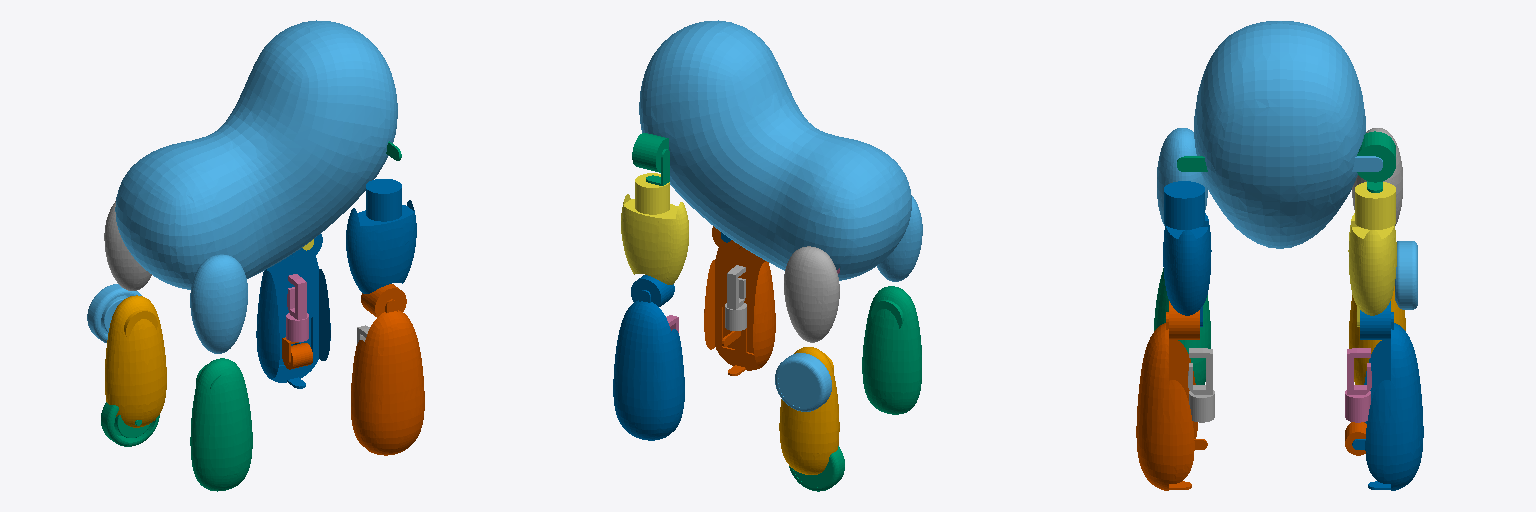
URDF robot description (px3):
<?xml version="1.0" ?>
<!-- =================================================================================== -->
<!-- |    This document was autogenerated by xacro from robot.xacro                    | -->
<!-- |    EDITING THIS FILE BY HAND IS NOT RECOMMENDED                                 | -->
<!-- =================================================================================== -->
<robot name="px3">
  <!-- dynamics inertial value -->
  <!-- arm -->
  <!-- <xacro:property name="J1" value="0.5"/>
    <xacro:property name="L1" value="0.2"/>
    <xacro:property name="J2" value="0.55"/>
    <xacro:property name="L2" value="0.35"/>
    <xacro:property name="J3" value="0.5"/>
    <xacro:property name="L3" value="0.2"/>
    <xacro:property name="J4" value="0.55"/>
    <xacro:property name="L4" value="0.35"/>
    <xacro:property name="J5" value="0.35"/>
    <xacro:property name="L5" value="0.15"/>
    <xacro:property name="J6" value="0.35"/>
    <xacro:property name="hand" value="0.5"/> -->
  <!--    <xacro:property name="J1" value="0.5"/>-->
  <!--    <xacro:property name="L1" value="0.2"/>-->
  <!--    <xacro:property name="J2" value="${hip_mass}"/>-->
  <!--    <xacro:property name="L2" value="${thigh_mass}"/>-->
  <!--    <xacro:property name="J3" value="0.0"/>-->
  <!--    <xacro:property name="L3" value="0.0"/>-->
  <!--    <xacro:property name="J4" value="0.0"/>-->
  <!--    <xacro:property name="L4" value="${calf_mass * 1}"/>-->
  <!--    <xacro:property name="J5" value="0.0"/>-->
  <!--    <xacro:property name="L5" value="0.0"/>-->
  <!--    <xacro:property name="J6" value="0.0"/>-->
  <!--    <xacro:property name="hand" value="0.0"/>-->
  <material name="black">
    <color rgba="0.0 0.0 0.0 1.0"/>
  </material>
  <material name="blue">
    <color rgba="0.0 0.0 0.8 1.0"/>
  </material>
  <material name="green">
    <color rgba="0.0 0.8 0.0 1.0"/>
  </material>
  <material name="grey">
    <color rgba="0.2 0.2 0.2 1.0"/>
  </material>
  <material name="silver">
    <color rgba="0.9137254901960784 0.9137254901960784 0.8470588235294118 1.0"/>
  </material>
  <material name="orange">
    <color rgba="1.0 0.4235294117647059 0.0392156862745098 0.5"/>
  </material>
  <material name="brown">
    <color rgba="0.8705882352941177 0.8117647058823529 0.7647058823529411 1.0"/>
  </material>
  <material name="red">
    <color rgba="0.8 0.0 0.0 1.0"/>
  </material>
  <material name="white">
    <color rgba="1.0 1.0 1.0 1.0"/>
  </material>
  <link name="base_link">
    <inertial>
      <origin rpy="0 0 0" xyz="0 0 0"/>
      <mass value="15.0"/>
      <inertia ixx="0.08" ixy="0.0" ixz="0.0" iyy="0.25" iyz="-0.0" izz="0.25"/>
    </inertial>
  </link>
  <joint name="floating_base" type="fixed">
    <origin rpy="0 0 0" xyz="0.1875 0 0.18"/>
    <parent link="base_link"/>
    <child link="trunk"/>
  </joint>
  <link name="trunk">
    <visual>
      <origin rpy="0 0 0" xyz="7.6e-3 0 14.64e-3"/>
      <geometry>
        <mesh filename="meshes/base.STL" scale="1 1 1"/>
      </geometry>
    </visual>
    <collision>
      <origin rpy="0 0 0" xyz="7.6e-3 0 14.64e-3"/>
      <geometry>
        <mesh filename="meshes/base.STL" scale="1 1 1"/>
      </geometry>
    </collision>
    <inertial>
      <origin rpy="0 0 0" xyz="0 0 0"/>
      <mass value="1"/>
      <inertia ixx="1e-3" ixy="0.0" ixz="0.0" iyy="1e-3" iyz="0.0" izz="1e-3"/>
    </inertial>
  </link>
  <joint name="leg0-fr_1_joint" type="revolute">
    <origin rpy="0 0 0" xyz="0.0 -0.0875 0.0"/>
    <parent link="trunk"/>
    <child link="fr_1"/>
    <axis xyz="0 1 0"/>
    <dynamics damping="0" friction="0"/>
    <limit effort="100" lower="-3.490658503988659" upper="3.490658503988659" velocity="30"/>
  </joint>
  <link name="fr_1">
    <visual>
      <origin rpy="0 0 0" xyz="0 0 0"/>
      <geometry>
        <mesh filename="meshes/fr_1.STL" scale="1 1 1"/>
      </geometry>
    </visual>
    <collision>
      <origin rpy="0 0 0" xyz="0 0 0"/>
      <geometry>
        <mesh filename="meshes/fr_1.STL" scale="1 1 1"/>
      </geometry>
    </collision>
    <inertial>
      <origin rpy="0 0 0" xyz="0 0 0"/>
      <mass value="1.35"/>
      <inertia ixx="1e-3" ixy="0.0" ixz="0.0" iyy="1e-3" iyz="0.0" izz="1e-3"/>
    </inertial>
  </link>
  <joint name="leg0-fr_2_joint" type="revolute">
    <origin rpy="0 0 0" xyz="0 -0.0775 0"/>
    <parent link="fr_1"/>
    <child link="fr_2"/>
    <axis xyz="1 0 0"/>
    <dynamics damping="0" friction="0"/>
    <limit effort="100" lower="-3.490658503988659" upper="3.490658503988659" velocity="30"/>
  </joint>
  <link name="fr_2">
    <visual>
      <origin rpy="0 0 0" xyz="0 0 0"/>
      <geometry>
        <mesh filename="meshes/fr_2.STL" scale="1 1 1"/>
      </geometry>
    </visual>
    <collision>
      <origin rpy="0 0 0" xyz="0 0 0"/>
      <geometry>
        <mesh filename="meshes/fr_2.STL" scale="1 1 1"/>
      </geometry>
    </collision>
    <inertial>
      <origin rpy="0 0 0" xyz="0 0 0"/>
      <mass value="0.9"/>
      <inertia ixx="1e-3" ixy="0.0" ixz="0.0" iyy="1e-3" iyz="0.0" izz="1e-3"/>
    </inertial>
  </link>
  <joint name="leg0-fr_3_joint" type="fixed">
    <origin rpy="0 0 0" xyz="0 0 -0.095"/>
    <parent link="fr_2"/>
    <child link="fr_3"/>
    &gt;

  </joint>
  <link name="fr_3">
    <visual>
      <origin rpy="0 0 0" xyz="0 0 0"/>
      <geometry>
        <mesh filename="meshes/fr_3.STL" scale="1 1 1"/>
      </geometry>
    </visual>
    <collision>
      <origin rpy="0 0 0" xyz="0 0 0"/>
      <geometry>
        <mesh filename="meshes/fr_3.STL" scale="1 1 1"/>
      </geometry>
    </collision>
    <inertial>
      <origin rpy="0 0 0" xyz="0 0 -0.10725"/>
      <mass value="1.7"/>
      <inertia ixx="1e-3" ixy="0.0" ixz="0.0" iyy="1e-3" iyz="0.0" izz="1e-3"/>
    </inertial>
  </link>
  <joint name="leg0-fr_4_joint" type="revolute">
    <origin rpy="0 0 0" xyz="0 0 -0.2145"/>
    <parent link="fr_3"/>
    <child link="fr_4"/>
    <axis xyz="0 1 0"/>
    <dynamics damping="0" friction="0"/>
    <limit effort="100" lower="-3.490658503988659" upper="3.490658503988659" velocity="30"/>
  </joint>
  <link name="fr_4">
    <visual>
      <origin rpy="0 0 0" xyz="0 0 0"/>
      <geometry>
        <mesh filename="meshes/fr_4.STL" scale="1 1 1"/>
      </geometry>
    </visual>
    <collision>
      <origin rpy="0 0 0" xyz="0 0 0"/>
      <geometry>
        <mesh filename="meshes/fr_4.STL" scale="1 1 1"/>
      </geometry>
    </collision>
    <inertial>
      <origin rpy="0 0 0" xyz="0 0 -0.11875"/>
      <mass value="2.1500000000000004"/>
      <inertia ixx="1e-3" ixy="0.0" ixz="0.0" iyy="1e-3" iyz="0.0" izz="1e-3"/>
    </inertial>
  </link>
  <joint name="leg0-fr_5_joint" type="fixed">
    <origin rpy="0 0 0" xyz="-0.0225 0.03 -0.2375"/>
    <parent link="fr_4"/>
    <child link="fr_5"/>
  </joint>
  <link name="fr_5">
    <visual>
      <origin rpy="0 0 0" xyz="0 0 0"/>
      <geometry>
        <mesh filename="meshes/fr_5.STL" scale="1 1 1"/>
      </geometry>
    </visual>
    <collision>
      <origin rpy="0 0 0" xyz="0 0 0"/>
      <geometry>
        <mesh filename="meshes/fr_5.STL" scale="1 1 1"/>
      </geometry>
    </collision>
    <inertial>
      <origin rpy="0 0 0" xyz="0 0 0"/>
      <mass value="0.48000000000000004"/>
      <inertia ixx="1e-3" ixy="0.0" ixz="0.0" iyy="1e-3" iyz="0.0" izz="1e-3"/>
    </inertial>
  </link>
  <joint name="leg0-fr_6_joint" type="fixed">
    <origin rpy="0 0 0" xyz="0 0 0.0405"/>
    <parent link="fr_5"/>
    <child link="fr_6"/>
  </joint>
  <link name="fr_6">
    <visual>
      <origin rpy="0 0 0" xyz="0 0 0"/>
      <geometry>
        <mesh filename="meshes/fr_6.STL" scale="1 1 1"/>
      </geometry>
    </visual>
    <collision>
      <origin rpy="0 0 0" xyz="0 0 0"/>
      <geometry>
        <mesh filename="meshes/fr_6.STL" scale="1 1 1"/>
      </geometry>
    </collision>
    <inertial>
      <origin rpy="0 0 0" xyz="0 0 0"/>
      <mass value="0.98"/>
      <inertia ixx="1e-3" ixy="0.0" ixz="0.0" iyy="1e-3" iyz="0.0" izz="1e-3"/>
    </inertial>
  </link>
  <joint name="leg0-fr_foot_joint" type="fixed">
    <origin rpy="0 0 0" xyz="0 0 -0.32"/>
    <parent link="fr_4"/>
    <child link="fr_foot"/>
  </joint>
  <link name="fr_foot">
    <inertial>
      <origin rpy="0 0 0" xyz="0 0 0"/>
      <mass value="0.01"/>
      <inertia ixx="1e-3" ixy="0.0" ixz="0.0" iyy="1e-3" iyz="0.0" izz="1e-3"/>
    </inertial>
  </link>
  <!-- <xacro:leg_transmission name="${name}"/> -->
  <joint name="leg1-fl_1_joint" type="revolute">
    <origin rpy="0 0 0" xyz="0.0 0.0875 0.0"/>
    <parent link="trunk"/>
    <child link="fl_1"/>
    <axis xyz="0 1 0"/>
    <dynamics damping="0" friction="0"/>
    <limit effort="100" lower="-3.490658503988659" upper="3.490658503988659" velocity="30"/>
  </joint>
  <link name="fl_1">
    <visual>
      <origin rpy="0 0 0" xyz="0 0 0"/>
      <geometry>
        <mesh filename="meshes/fl_1.STL" scale="1 1 1"/>
      </geometry>
    </visual>
    <collision>
      <origin rpy="0 0 0" xyz="0 0 0"/>
      <geometry>
        <mesh filename="meshes/fl_1.STL" scale="1 1 1"/>
      </geometry>
    </collision>
    <inertial>
      <origin rpy="0 0 0" xyz="0 0 0"/>
      <mass value="1.35"/>
      <inertia ixx="1e-3" ixy="0.0" ixz="0.0" iyy="1e-3" iyz="0.0" izz="1e-3"/>
    </inertial>
  </link>
  <joint name="leg1-fl_2_joint" type="revolute">
    <origin rpy="0 0 0" xyz="0 0.0775 0"/>
    <parent link="fl_1"/>
    <child link="fl_2"/>
    <axis xyz="1 0 0"/>
    <dynamics damping="0" friction="0"/>
    <limit effort="100" lower="-3.490658503988659" upper="3.490658503988659" velocity="30"/>
  </joint>
  <link name="fl_2">
    <visual>
      <origin rpy="0 0 0" xyz="0 0 0"/>
      <geometry>
        <mesh filename="meshes/fl_2.STL" scale="1 1 1"/>
      </geometry>
    </visual>
    <collision>
      <origin rpy="0 0 0" xyz="0 0 0"/>
      <geometry>
        <mesh filename="meshes/fl_2.STL" scale="1 1 1"/>
      </geometry>
    </collision>
    <inertial>
      <origin rpy="0 0 0" xyz="0 0 0"/>
      <mass value="0.9"/>
      <inertia ixx="1e-3" ixy="0.0" ixz="0.0" iyy="1e-3" iyz="0.0" izz="1e-3"/>
    </inertial>
  </link>
  <joint name="leg1-fl_3_joint" type="fixed">
    <origin rpy="0 0 0" xyz="0 0 -0.095"/>
    <parent link="fl_2"/>
    <child link="fl_3"/>
    &gt;

  </joint>
  <link name="fl_3">
    <visual>
      <origin rpy="0 0 0" xyz="0 0 0"/>
      <geometry>
        <mesh filename="meshes/fl_3.STL" scale="1 1 1"/>
      </geometry>
    </visual>
    <collision>
      <origin rpy="0 0 0" xyz="0 0 0"/>
      <geometry>
        <mesh filename="meshes/fl_3.STL" scale="1 1 1"/>
      </geometry>
    </collision>
    <inertial>
      <origin rpy="0 0 0" xyz="0 0 -0.10725"/>
      <mass value="1.7"/>
      <inertia ixx="1e-3" ixy="0.0" ixz="0.0" iyy="1e-3" iyz="0.0" izz="1e-3"/>
    </inertial>
  </link>
  <joint name="leg1-fl_4_joint" type="revolute">
    <origin rpy="0 0 0" xyz="0 0 -0.2145"/>
    <parent link="fl_3"/>
    <child link="fl_4"/>
    <axis xyz="0 1 0"/>
    <dynamics damping="0" friction="0"/>
    <limit effort="100" lower="-3.490658503988659" upper="3.490658503988659" velocity="30"/>
  </joint>
  <link name="fl_4">
    <visual>
      <origin rpy="0 0 0" xyz="0 0 0"/>
      <geometry>
        <mesh filename="meshes/fl_4.STL" scale="1 1 1"/>
      </geometry>
    </visual>
    <collision>
      <origin rpy="0 0 0" xyz="0 0 0"/>
      <geometry>
        <mesh filename="meshes/fl_4.STL" scale="1 1 1"/>
      </geometry>
    </collision>
    <inertial>
      <origin rpy="0 0 0" xyz="0 0 -0.11875"/>
      <mass value="2.1500000000000004"/>
      <inertia ixx="1e-3" ixy="0.0" ixz="0.0" iyy="1e-3" iyz="0.0" izz="1e-3"/>
    </inertial>
  </link>
  <joint name="leg1-fl_5_joint" type="fixed">
    <origin rpy="0 0 0" xyz="-0.0225 -0.03 -0.2375"/>
    <parent link="fl_4"/>
    <child link="fl_5"/>
  </joint>
  <link name="fl_5">
    <visual>
      <origin rpy="0 0 0" xyz="0 0 0"/>
      <geometry>
        <mesh filename="meshes/fl_5.STL" scale="1 1 1"/>
      </geometry>
    </visual>
    <collision>
      <origin rpy="0 0 0" xyz="0 0 0"/>
      <geometry>
        <mesh filename="meshes/fl_5.STL" scale="1 1 1"/>
      </geometry>
    </collision>
    <inertial>
      <origin rpy="0 0 0" xyz="0 0 0"/>
      <mass value="0.48000000000000004"/>
      <inertia ixx="1e-3" ixy="0.0" ixz="0.0" iyy="1e-3" iyz="0.0" izz="1e-3"/>
    </inertial>
  </link>
  <joint name="leg1-fl_6_joint" type="fixed">
    <origin rpy="0 0 0" xyz="0 0 0.0405"/>
    <parent link="fl_5"/>
    <child link="fl_6"/>
  </joint>
  <link name="fl_6">
    <visual>
      <origin rpy="0 0 0" xyz="0 0 0"/>
      <geometry>
        <mesh filename="meshes/fl_6.STL" scale="1 1 1"/>
      </geometry>
    </visual>
    <collision>
      <origin rpy="0 0 0" xyz="0 0 0"/>
      <geometry>
        <mesh filename="meshes/fl_6.STL" scale="1 1 1"/>
      </geometry>
    </collision>
    <inertial>
      <origin rpy="0 0 0" xyz="0 0 0"/>
      <mass value="0.98"/>
      <inertia ixx="1e-3" ixy="0.0" ixz="0.0" iyy="1e-3" iyz="0.0" izz="1e-3"/>
    </inertial>
  </link>
  <joint name="leg1-fl_foot_joint" type="fixed">
    <origin rpy="0 0 0" xyz="0 0 -0.32"/>
    <parent link="fl_4"/>
    <child link="fl_foot"/>
  </joint>
  <link name="fl_foot">
    <inertial>
      <origin rpy="0 0 0" xyz="0 0 0"/>
      <mass value="0.01"/>
      <inertia ixx="1e-3" ixy="0.0" ixz="0.0" iyy="1e-3" iyz="0.0" izz="1e-3"/>
    </inertial>
  </link>
  <!-- <xacro:leg_transmission name="${name}"/> -->
  <joint name="leg2-hr_1_joint" type="revolute">
    <origin rpy="0 0 0" xyz="-0.375 -0.0875 -0.18"/>
    <parent link="trunk"/>
    <child link="hr_1"/>
    <axis xyz="0 1 0"/>
    <dynamics damping="0" friction="0"/>
    <limit effort="100" lower="-3.490658503988659" upper="3.490658503988659" velocity="30"/>
  </joint>
  <link name="hr_1">
    <visual>
      <origin rpy="0 0 0" xyz="0 0 0"/>
      <geometry>
        <mesh filename="meshes/hr_a.STL" scale="1 1 1"/>
      </geometry>
    </visual>
    <collision>
      <origin rpy="0 0 0" xyz="0 0 0"/>
      <geometry>
        <mesh filename="meshes/hr_a.STL" scale="1 1 1"/>
      </geometry>
    </collision>
    <inertial>
      <origin rpy="0 0 0" xyz="0 0 0"/>
      <mass value="0.5"/>
      <inertia ixx="1e-3" ixy="0.0" ixz="0.0" iyy="1e-3" iyz="0.0" izz="1e-3"/>
    </inertial>
  </link>
  <joint name="leg2-hr_2_joint" type="revolute">
    <origin rpy="0 0 0" xyz="0 -0.0775 0"/>
    <parent link="hr_1"/>
    <child link="hr_2"/>
    <axis xyz="1 0 0"/>
    <dynamics damping="0" friction="0"/>
    <limit effort="100" lower="-3.490658503988659" upper="3.490658503988659" velocity="30"/>
  </joint>
  <link name="hr_2">
    <visual>
      <origin rpy="0 0 0" xyz="0 0 0"/>
      <geometry>
        <mesh filename="meshes/hr_h.STL" scale="1 1 1"/>
      </geometry>
    </visual>
    <collision>
      <origin rpy="0 0 0" xyz="0 0 0"/>
      <geometry>
        <mesh filename="meshes/hr_h.STL" scale="1 1 1"/>
      </geometry>
    </collision>
    <inertial>
      <origin rpy="0 0 0" xyz="0 0 -0.1125"/>
      <mass value="1.55"/>
      <inertia ixx="1e-3" ixy="0.0" ixz="0.0" iyy="1e-3" iyz="0.0" izz="1e-3"/>
    </inertial>
  </link>
  <joint name="leg2-hr_3_joint" type="revolute">
    <origin rpy="0 0 0" xyz="0 0 -0.225"/>
    <parent link="hr_2"/>
    <child link="hr_3"/>
    <axis xyz="0 1 0"/>
    <dynamics damping="0" friction="0"/>
    <limit effort="100" lower="-3.490658503988659" upper="3.490658503988659" velocity="30"/>
  </joint>
  <link name="hr_3">
    <visual>
      <origin rpy="0 0 0" xyz="0 0 0"/>
      <geometry>
        <mesh filename="meshes/hr_k.STL" scale="1 1 1"/>
      </geometry>
    </visual>
    <collision>
      <origin rpy="0 0 0" xyz="0 0 0"/>
      <geometry>
        <mesh filename="meshes/hr_k.STL" scale="1 1 1"/>
      </geometry>
    </collision>
    <inertial>
      <origin rpy="0 0 0" xyz="0 0 -0.1"/>
      <mass value="1.4500000000000002"/>
      <inertia ixx="1e-3" ixy="0.0" ixz="0.0" iyy="1e-3" iyz="0.0" izz="1e-3"/>
    </inertial>
  </link>
  <joint name="leg2-hr_4_continuous" type="fixed">
    <origin rpy="0 0 0" xyz="-0.01 -0.053 -0.0"/>
    <parent link="hr_3"/>
    <child link="hr_4"/>
    <axis xyz="0 1 0"/>
    <dynamics damping="0" friction="0"/>
    <limit effort="100" velocity="30"/>
  </joint>
  <link name="hr_4">
    <visual>
      <origin rpy="3.141592653589793 0 0" xyz="0 0 0"/>
      <geometry>
        <mesh filename="meshes/hr_kw.STL" scale="1 1 1"/>
      </geometry>
    </visual>
    <collision>
      <origin rpy="3.141592653589793 0 0" xyz="0 0 0"/>
      <geometry>
        <mesh filename="meshes/hr_kw.STL" scale="1 1 1"/>
      </geometry>
    </collision>
    <inertial>
      <origin rpy="0 0 0" xyz="0 0 0"/>
      <mass value="0.5"/>
      <inertia ixx="1e-3" ixy="0.0" ixz="0.0" iyy="2e-3" iyz="0.0" izz="1e-3"/>
    </inertial>
  </link>
  <joint name="leg2-hr_5_continuous" type="fixed">
    <origin rpy="0 0 0" xyz="-0.01 0 -0.2"/>
    <parent link="hr_3"/>
    <child link="hr_5"/>
    <axis xyz="0 1 0"/>
    <dynamics damping="0" friction="0"/>
    <limit effort="100" velocity="30"/>
  </joint>
  <link name="hr_5">
    <visual>
      <origin rpy="3.141592653589793 0 0" xyz="0 0 0"/>
      <geometry>
        <mesh filename="meshes/hr_fw.STL" scale="1 1 1"/>
      </geometry>
    </visual>
    <collision>
      <origin rpy="3.141592653589793 0 0" xyz="0 0 0"/>
      <geometry>
        <mesh filename="meshes/hr_fw.STL" scale="1 1 1"/>
      </geometry>
    </collision>
    <inertial>
      <origin rpy="0 0 0" xyz="0 0 0"/>
      <mass value="0.5"/>
      <inertia ixx="1e-3" ixy="0.0" ixz="0.0" iyy="2e-3" iyz="0.0" izz="1e-3"/>
    </inertial>
  </link>
  <joint name="leg2-hr_foot_joint" type="fixed">
    <origin rpy="0 0 0" xyz="0 0 -0.06"/>
    <parent link="hr_5"/>
    <child link="hr_foot"/>
  </joint>
  <link name="hr_foot">
    <inertial>
      <origin rpy="0 0 0" xyz="0 0 0"/>
      <mass value="0.01"/>
      <inertia ixx="1e-3" ixy="0.0" ixz="0.0" iyy="1e-3" iyz="0.0" izz="1e-3"/>
    </inertial>
  </link>
  <!-- <xacro:leg_transmission name="${name}"/> -->
  <joint name="leg3-hl_1_joint" type="revolute">
    <origin rpy="0 0 0" xyz="-0.375 0.0875 -0.18"/>
    <parent link="trunk"/>
    <child link="hl_1"/>
    <axis xyz="0 1 0"/>
    <dynamics damping="0" friction="0"/>
    <limit effort="100" lower="-3.490658503988659" upper="3.490658503988659" velocity="30"/>
  </joint>
  <link name="hl_1">
    <visual>
      <origin rpy="0 0 0" xyz="0 0 0"/>
      <geometry>
        <mesh filename="meshes/hl_a.STL" scale="1 1 1"/>
      </geometry>
    </visual>
    <collision>
      <origin rpy="0 0 0" xyz="0 0 0"/>
      <geometry>
        <mesh filename="meshes/hl_a.STL" scale="1 1 1"/>
      </geometry>
    </collision>
    <inertial>
      <origin rpy="0 0 0" xyz="0 0 0"/>
      <mass value="0.5"/>
      <inertia ixx="1e-3" ixy="0.0" ixz="0.0" iyy="1e-3" iyz="0.0" izz="1e-3"/>
    </inertial>
  </link>
  <joint name="leg3-hl_2_joint" type="revolute">
    <origin rpy="0 0 0" xyz="0 0.0775 0"/>
    <parent link="hl_1"/>
    <child link="hl_2"/>
    <axis xyz="1 0 0"/>
    <dynamics damping="0" friction="0"/>
    <limit effort="100" lower="-3.490658503988659" upper="3.490658503988659" velocity="30"/>
  </joint>
  <link name="hl_2">
    <visual>
      <origin rpy="0 0 0" xyz="0 0 0"/>
      <geometry>
        <mesh filename="meshes/hl_h.STL" scale="1 1 1"/>
      </geometry>
    </visual>
    <collision>
      <origin rpy="0 0 0" xyz="0 0 0"/>
      <geometry>
        <mesh filename="meshes/hl_h.STL" scale="1 1 1"/>
      </geometry>
    </collision>
    <inertial>
      <origin rpy="0 0 0" xyz="0 0 -0.1125"/>
      <mass value="1.55"/>
      <inertia ixx="1e-3" ixy="0.0" ixz="0.0" iyy="1e-3" iyz="0.0" izz="1e-3"/>
    </inertial>
  </link>
  <joint name="leg3-hl_3_joint" type="revolute">
    <origin rpy="0 0 0" xyz="0 0 -0.225"/>
    <parent link="hl_2"/>
    <child link="hl_3"/>
    <axis xyz="0 1 0"/>
    <dynamics damping="0" friction="0"/>
    <limit effort="100" lower="-3.490658503988659" upper="3.490658503988659" velocity="30"/>
  </joint>
  <link name="hl_3">
    <visual>
      <origin rpy="0 0 0" xyz="0 0 0"/>
      <geometry>
        <mesh filename="meshes/hl_k.STL" scale="1 1 1"/>
      </geometry>
    </visual>
    <collision>
      <origin rpy="0 0 0" xyz="0 0 0"/>
      <geometry>
        <mesh filename="meshes/hl_k.STL" scale="1 1 1"/>
      </geometry>
    </collision>
    <inertial>
      <origin rpy="0 0 0" xyz="0 0 -0.1"/>
      <mass value="1.4500000000000002"/>
      <inertia ixx="1e-3" ixy="0.0" ixz="0.0" iyy="1e-3" iyz="0.0" izz="1e-3"/>
    </inertial>
  </link>
  <joint name="leg3-hl_4_continuous" type="fixed">
    <origin rpy="0 0 0" xyz="-0.01 0.053 -0.0"/>
    <parent link="hl_3"/>
    <child link="hl_4"/>
    <axis xyz="0 1 0"/>
    <dynamics damping="0" friction="0"/>
    <limit effort="100" velocity="30"/>
  </joint>
  <link name="hl_4">
    <visual>
      <origin rpy="0 0 0" xyz="0 0 0"/>
      <geometry>
        <mesh filename="meshes/hl_kw.STL" scale="1 1 1"/>
      </geometry>
    </visual>
    <collision>
      <origin rpy="0 0 0" xyz="0 0 0"/>
      <geometry>
        <mesh filename="meshes/hl_kw.STL" scale="1 1 1"/>
      </geometry>
    </collision>
    <inertial>
      <origin rpy="0 0 0" xyz="0 0 0"/>
      <mass value="0.5"/>
      <inertia ixx="1e-3" ixy="0.0" ixz="0.0" iyy="2e-3" iyz="0.0" izz="1e-3"/>
    </inertial>
  </link>
  <joint name="leg3-hl_5_continuous" type="fixed">
    <origin rpy="0 0 0" xyz="-0.01 0 -0.2"/>
    <parent link="hl_3"/>
    <child link="hl_5"/>
    <axis xyz="0 1 0"/>
    <dynamics damping="0" friction="0"/>
    <limit effort="100" velocity="30"/>
  </joint>
  <link name="hl_5">
    <visual>
      <origin rpy="0 0 0" xyz="0 0 0"/>
      <geometry>
        <mesh filename="meshes/hl_fw.STL" scale="1 1 1"/>
      </geometry>
    </visual>
    <collision>
      <origin rpy="0 0 0" xyz="0 0 0"/>
      <geometry>
        <mesh filename="meshes/hl_fw.STL" scale="1 1 1"/>
      </geometry>
    </collision>
    <inertial>
      <origin rpy="0 0 0" xyz="0 0 0"/>
      <mass value="0.5"/>
      <inertia ixx="1e-3" ixy="0.0" ixz="0.0" iyy="2e-3" iyz="0.0" izz="1e-3"/>
    </inertial>
  </link>
  <joint name="leg3-hl_foot_joint" type="fixed">
    <origin rpy="0 0 0" xyz="0 0 -0.06"/>
    <parent link="hl_5"/>
    <child link="hl_foot"/>
  </joint>
  <link name="hl_foot">
    <inertial>
      <origin rpy="0 0 0" xyz="0 0 0"/>
      <mass value="0.01"/>
      <inertia ixx="1e-3" ixy="0.0" ixz="0.0" iyy="1e-3" iyz="0.0" izz="1e-3"/>
    </inertial>
  </link>
  <!-- <xacro:leg_transmission name="${name}"/> -->
</robot>

--- Render facts (derived) ---
Views: 3 orthographic renders of the robot side by side, from view 1: azimuth 30°, elevation 25°; view 2: azimuth 150°, elevation 25°; view 3: azimuth 270°, elevation 25°.
Robot: px3 — 28 links, 27 joints (12 revolute, 15 fixed); root link base_link; default pose: all joints at 0.
Links seen in each view (by area): view 1: trunk, fr_4, hr_3, hl_3, fl_4, fr_3, hr_2, hl_2, hl_4, fl_6, hl_5, fl_5; view 2: trunk, fl_4, fr_4, hr_3, fl_3, hl_2, hl_3, hl_4, hr_2, fl_2, fr_6, hl_5; view 3: trunk, fr_4, fl_4, fr_3, fl_3, hr_2, hl_4, fr_6, fl_6, fl_2, hr_3, hl_3 (+1 smaller).
Link boxes in pixels (x1,y1,x2,y2): trunk: (115, 20, 397, 289); fr_4: (351, 284, 424, 455); hr_3: (190, 358, 252, 491); hl_3: (105, 295, 166, 427); fl_4: (256, 234, 330, 388); fr_3: (346, 179, 416, 293); hr_2: (190, 254, 247, 353); hl_2: (104, 201, 151, 290); hl_4: (87, 284, 141, 342); fl_6: (286, 274, 308, 341); hl_5: (101, 402, 159, 446); fl_5: (282, 337, 312, 369); trunk: (639, 20, 911, 280); fl_4: (613, 275, 684, 440); fr_4: (704, 226, 775, 375); hr_3: (862, 286, 921, 414); fl_3: (621, 173, 688, 284); hl_2: (784, 246, 839, 342); hl_3: (779, 347, 839, 474); hl_4: (775, 353, 831, 411); hr_2: (877, 196, 922, 281); fl_2: (632, 133, 669, 185); fr_6: (725, 265, 746, 330); hl_5: (789, 446, 844, 491); trunk: (1194, 21, 1365, 248); fr_4: (1136, 301, 1207, 490); fl_4: (1352, 301, 1423, 490); fr_3: (1163, 181, 1211, 326); fl_3: (1348, 182, 1396, 326); hr_2: (1157, 128, 1207, 225); hl_4: (1395, 241, 1417, 309); fr_6: (1188, 348, 1214, 422); fl_6: (1345, 348, 1371, 422); fl_2: (1357, 131, 1395, 192); hr_3: (1154, 268, 1210, 384); hl_3: (1349, 286, 1405, 384).
Bounding box of the posed robot: 0.5762 × 0.4961 × 0.8893 m (x, y, z).
Meshes: 23 distinct files referenced, 18 mesh visuals loaded (18 binary STL); not drawn: 5 (reference not matched to a file when rendering).
